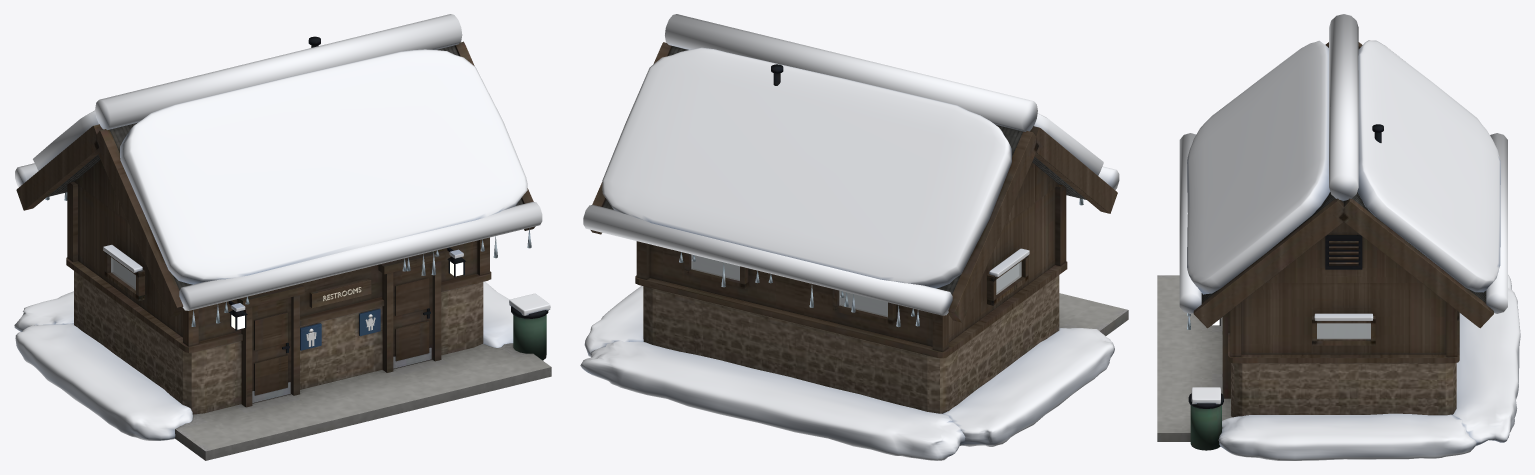
The model's file is restroom.glb.
3 views of the same model, side by side, from view 1: azimuth 30°, elevation 25°; view 2: azimuth 150°, elevation 25°; view 3: azimuth 270°, elevation 25° (orthographic). The views are drawn at different scales.
Parts seen in each view (by area): view 1: restroom_snow, restroom; view 2: restroom_snow, restroom, restroom_glass; view 3: restroom_snow, restroom, restroom_glass.
Boxes of the visible parts, left/top/right/bottom form: restroom_snow: left=14, top=14, right=550, bottom=440; restroom: left=16, top=36, right=551, bottom=460; restroom_snow: left=580, top=14, right=1119, bottom=460; restroom: left=590, top=42, right=1128, bottom=413; restroom_glass: left=691, top=254, right=1021, bottom=317; restroom_snow: left=1179, top=14, right=1520, bottom=460; restroom: left=1157, top=42, right=1493, bottom=450; restroom_glass: left=1317, top=323, right=1370, bottom=339.
Size of the model in its own units: 9.16 by 6.35 by 7.4.
Materials: 6 (1 with a texture image).
